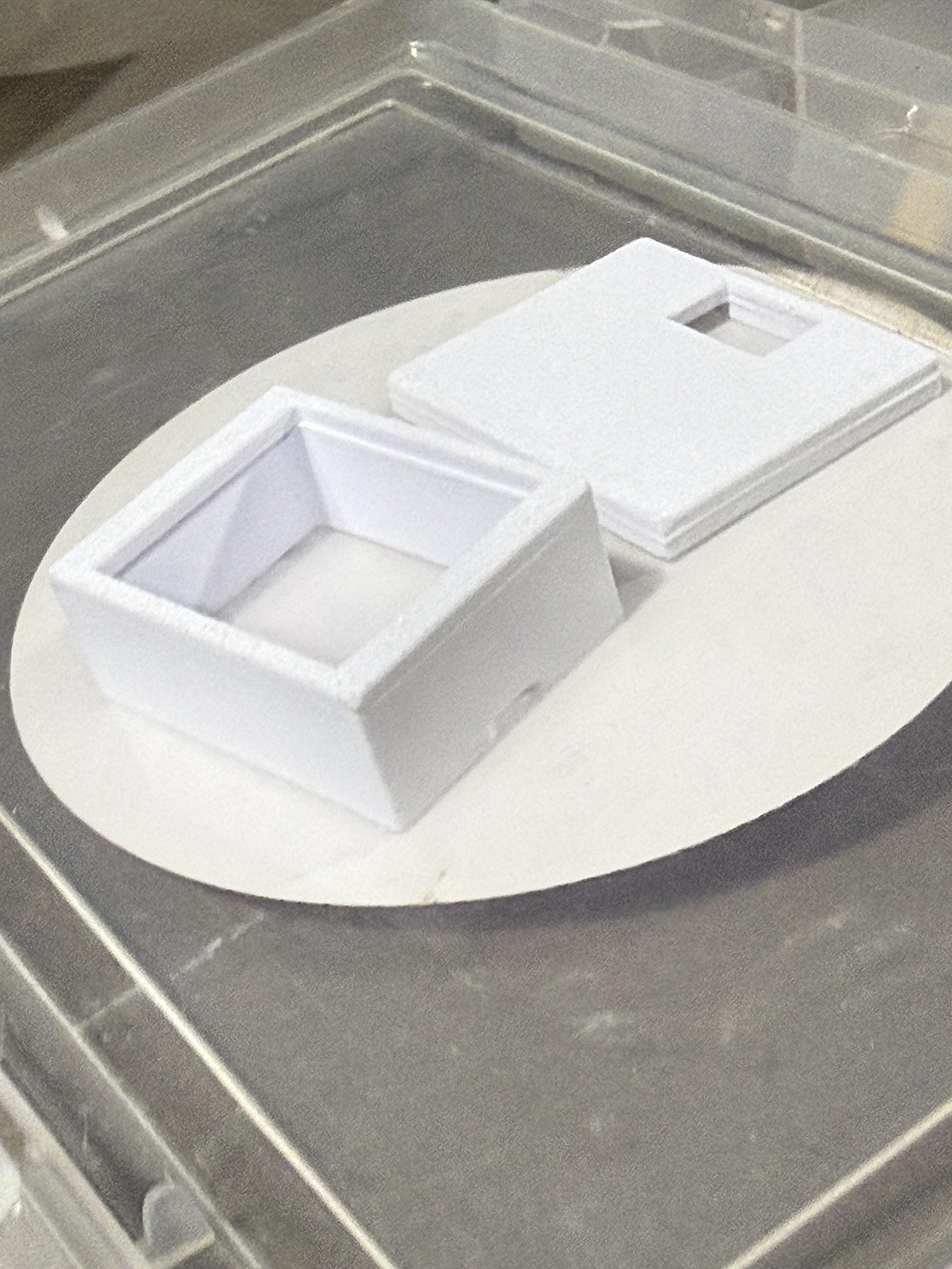enclosure: (47, 384, 626, 833), (382, 230, 952, 572)
